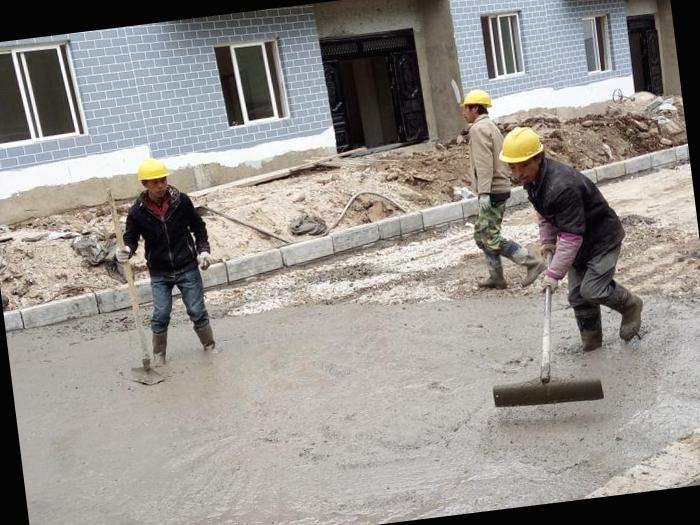helmet: (494, 119, 550, 173), (457, 80, 498, 121), (133, 155, 177, 190)
no_vest: (532, 162, 622, 290), (132, 194, 202, 290)
person: (488, 109, 652, 368), (108, 148, 226, 364), (449, 78, 522, 293)
